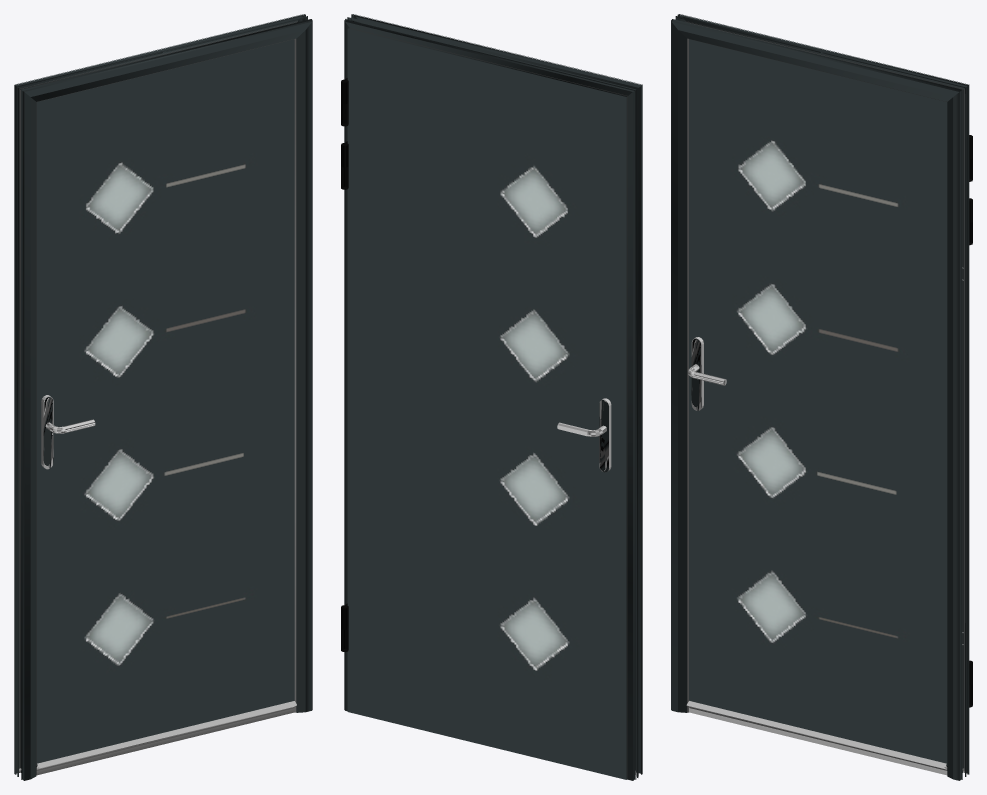
The picture shows the model from 3 angles, left to right: view 1: azimuth 30°, elevation 25°; view 2: azimuth 150°, elevation 25°; view 3: azimuth 330°, elevation 25°; orthographic projection.
Parts seen in each view (by area): view 1: ouvrant, 50, puxador; view 2: ouvrant, 50, puxador; view 3: ouvrant, 50, puxador.
Part boxes in pixels (x1,y1,x2,y2): ouvrant: [19, 21, 297, 770]; 50: [14, 14, 312, 780]; puxador: [41, 395, 53, 469]; ouvrant: [341, 28, 627, 779]; 50: [341, 14, 642, 780]; puxador: [599, 398, 611, 472]; ouvrant: [685, 21, 972, 770]; 50: [671, 14, 972, 780]; puxador: [691, 337, 703, 410].
Size of the model in its own units: 96 by 218 by 19.09.
1 material, 1 textured.
